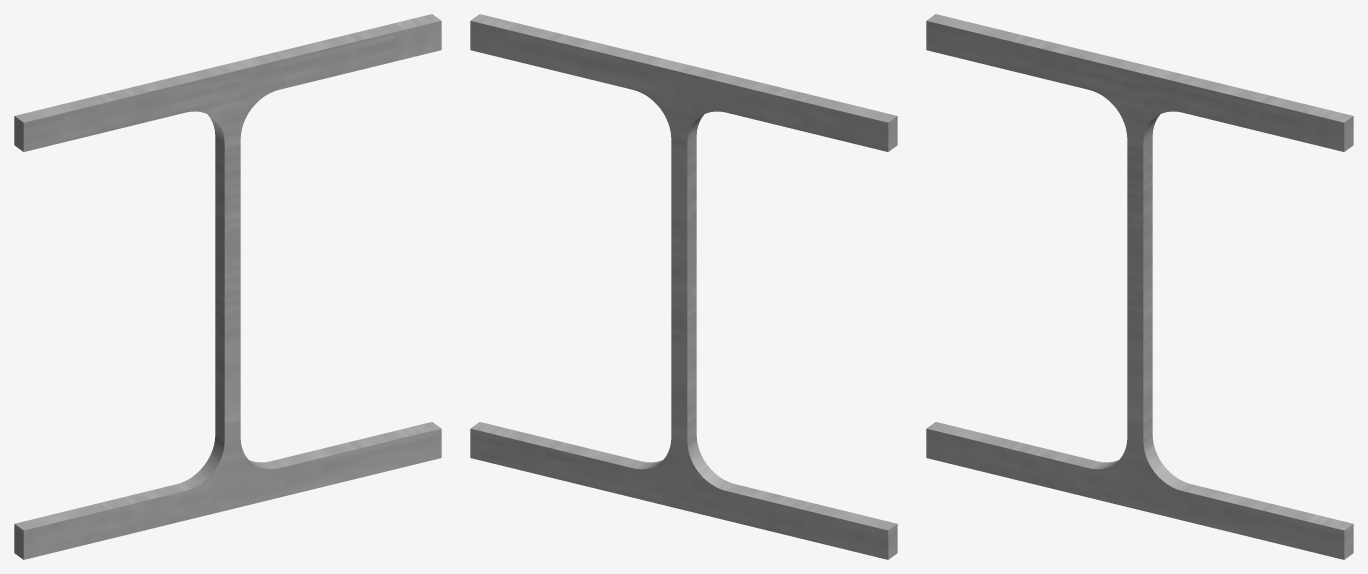
Rendered from HEB260.glb.
3 renders of one model, left to right at view 1: azimuth 30°, elevation 25°; view 2: azimuth 150°, elevation 25°; view 3: azimuth 330°, elevation 25°, orthographic.
Bounding box in the file's own units: 26 × 26 × 1.
1 material, 1 textured.
